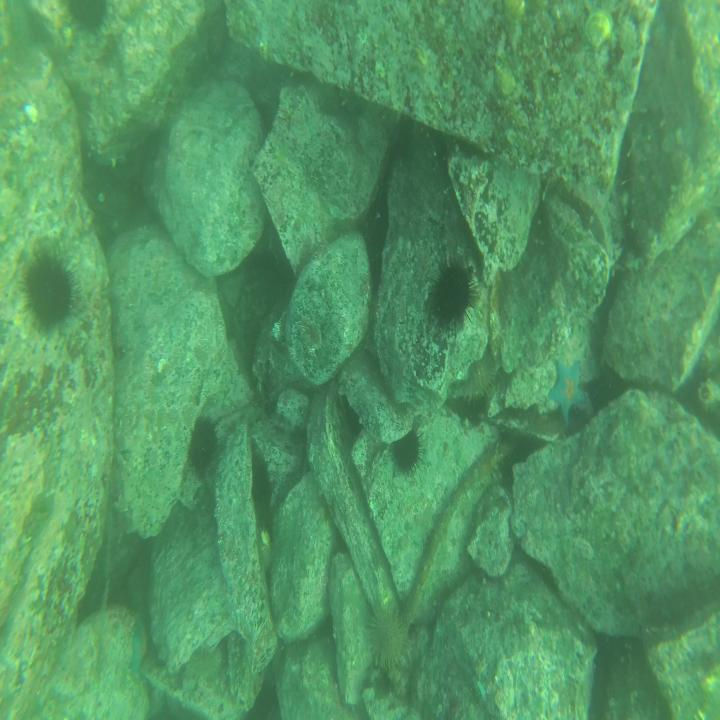echinus: (22, 250, 74, 330), (428, 253, 472, 332), (188, 417, 216, 478), (390, 429, 421, 474)
starfish: (546, 358, 590, 425)
